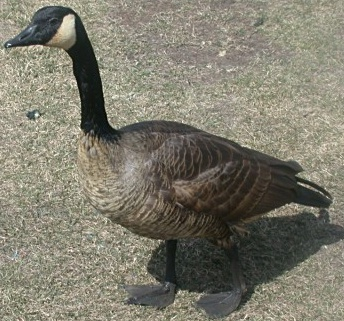goose: (2, 3, 337, 317)
